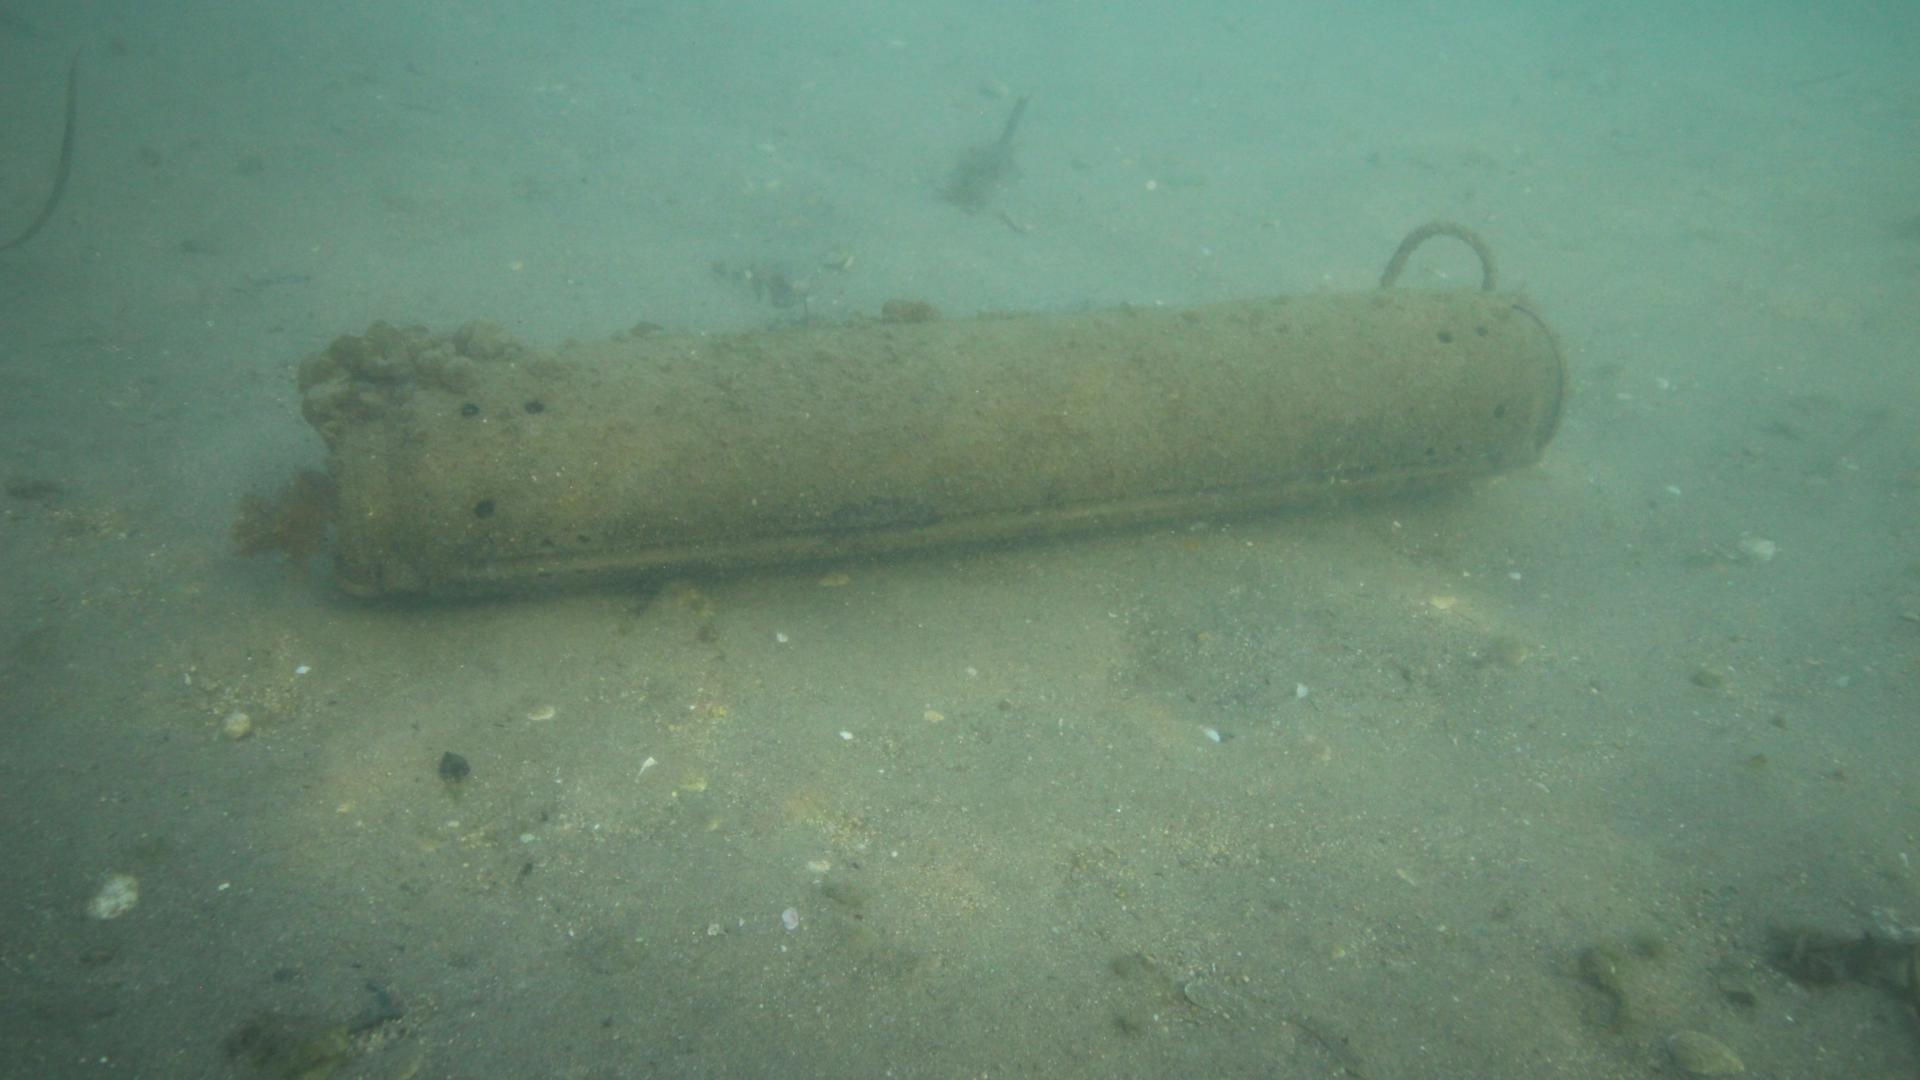eel fish trap: (295, 218, 1572, 604)
rope: (1378, 218, 1502, 291)
